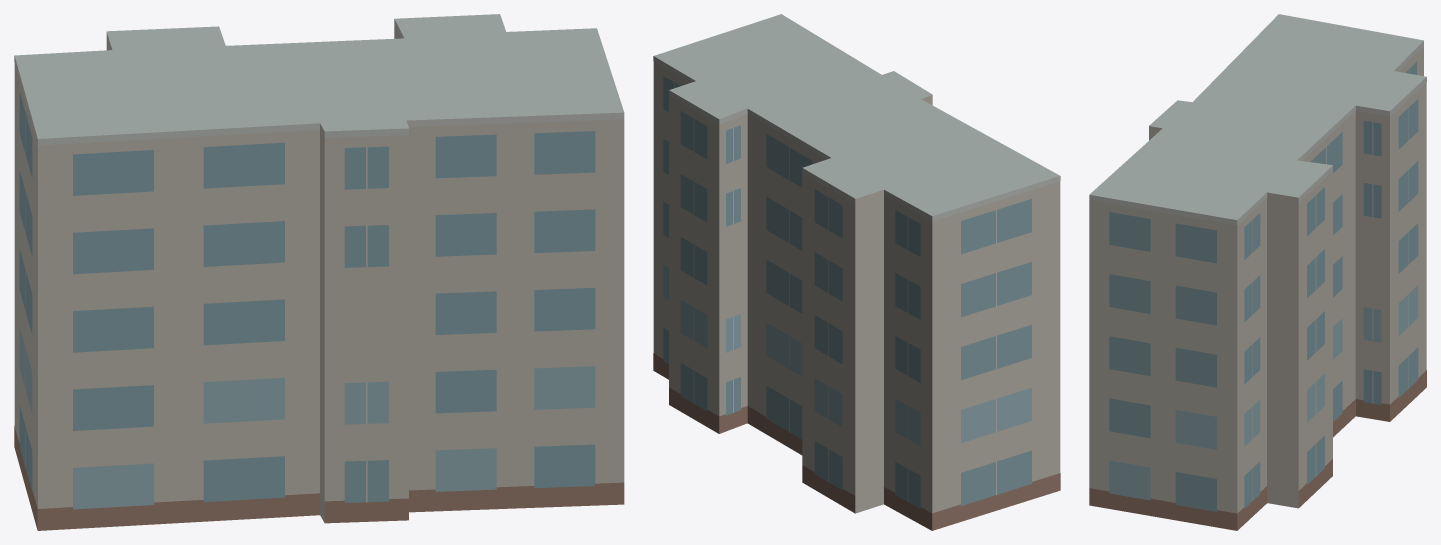
Rendered from survey-upis-32749660.glb.
3 renders of one model, left to right at view 1: azimuth 30°, elevation 25°; view 2: azimuth 150°, elevation 25°; view 3: azimuth 270°, elevation 25°, orthographic. The views are drawn at different scales.
Parts seen in each view (by area): view 1: survey-upis-32749660.tmp; view 2: survey-upis-32749660.tmp; view 3: survey-upis-32749660.tmp.
Boxes of the visible parts, bbox=[...] form: survey-upis-32749660.tmp: bbox=[14, 14, 624, 530]; survey-upis-32749660.tmp: bbox=[653, 14, 1060, 530]; survey-upis-32749660.tmp: bbox=[1089, 14, 1426, 530].
Bounding box in the file's own units: 20.51 × 14.4 × 14.19.
